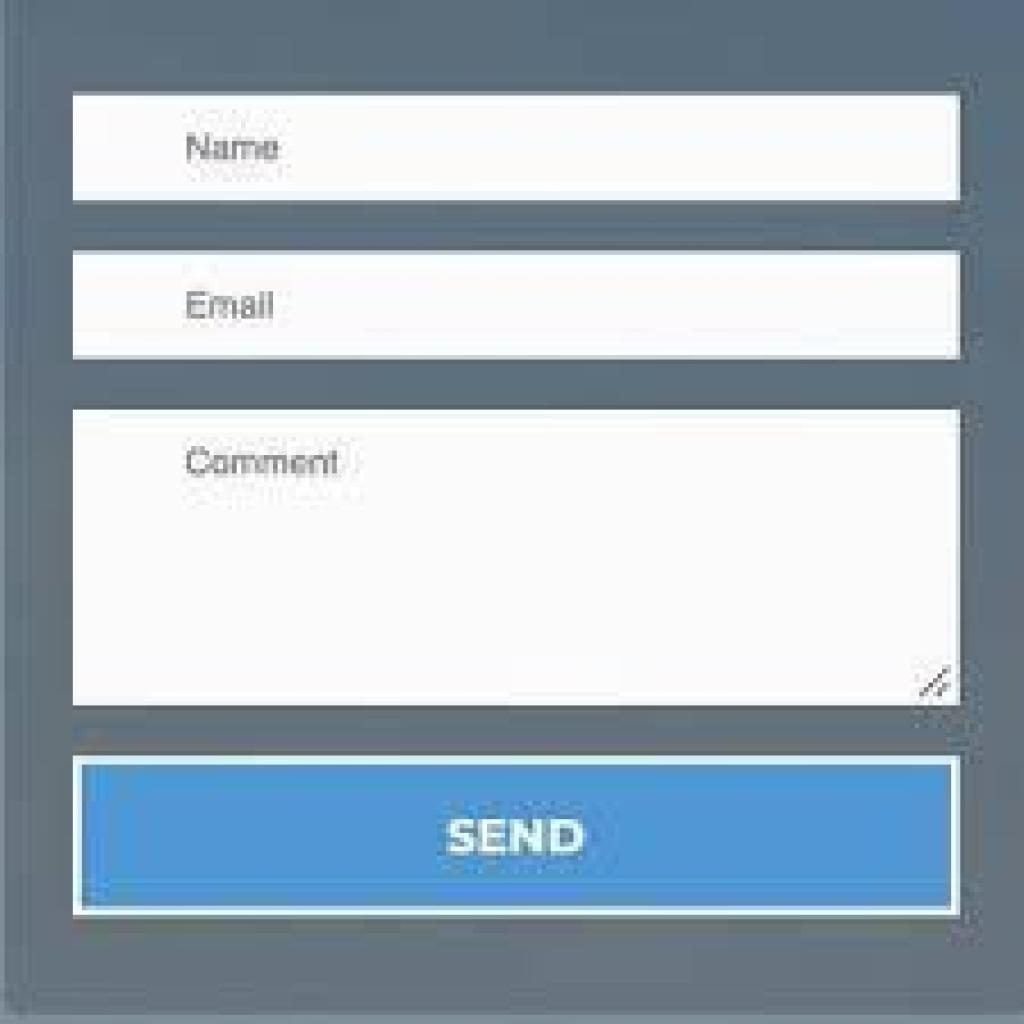input: (73, 756, 960, 920), (73, 250, 960, 360), (73, 91, 960, 200)
